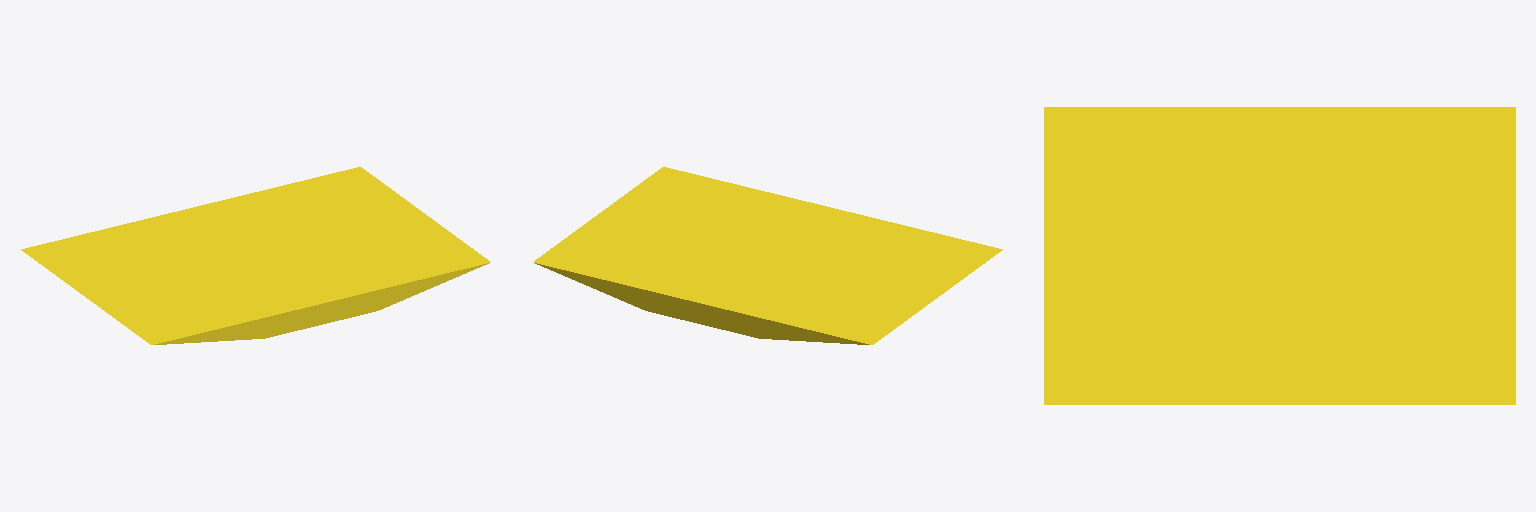
The robot description file, URDF, robot "wedge_10.SLDPRT":
<?xml version="1.0" encoding="utf-8"?>
<!-- This URDF was automatically created by SolidWorks to URDF Exporter! Originally created by [author] ([email redacted]) 
     Commit Version: 1.5.1-0-g916b5db  Build Version: 1.5.7152.31018
     For more information, please see http://wiki.ros.org/sw_urdf_exporter -->
<robot
  name="wedge_10.SLDPRT">
  <link
    name="wedge_10.SLDPRT">
    <inertial>
      <origin
        xyz="-3.9245E-17 -1.87208324991391E-17 0.014734"
        rpy="0 0 0" />
      <mass
        value="707.23" />
      <inertia
        ixx="237.43"
        ixy="3.1225E-14"
        ixz="-2.1437E-15"
        iyy="296.37"
        iyz="1.43192041587833E-14"
        izz="530.43" />
    </inertial>
    <visual>
      <origin
        xyz="0 0 0"
        rpy="1.5707963267949 0 0" />
      <geometry>
        <mesh
          filename="package://wedge_10.SLDPRT/meshes/wedge_10.SLDPRT.STL" />
      </geometry>
      <material
        name="">
        <color
          rgba="1 0.9 0.2 1" />
        <texture
          filename="package://wedge_10.SLDPRT/textures/" />
      </material>
    </visual>
    <collision>
      <origin
        xyz="0 0 0"
        rpy="1.5707963267949 0 0" />
      <geometry>
        <mesh
          filename="package://wedge_10.SLDPRT/meshes/wedge_10.SLDPRT.STL" />
      </geometry>
    </collision>
  </link>
</robot>

--- What the picture shows (computed from the rendered views, not written in the file) ---
3 views of the same robot in one strip: view 1: azimuth 30°, elevation 25°; view 2: azimuth 150°, elevation 25°; view 3: azimuth 270°, elevation 25° (orthographic).
Robot: wedge_10.SLDPRT — 1 links, 0 joints (none); root link wedge_10.SLDPRT; default pose: every joint at zero.
Links seen in each view (by area): view 1: wedge_10.SLDPRT; view 2: wedge_10.SLDPRT; view 3: wedge_10.SLDPRT.
Boxes of the visible links, x1,y1,x2,y2 form: wedge_10.SLDPRT: [21, 167, 490, 344]; wedge_10.SLDPRT: [533, 167, 1002, 344]; wedge_10.SLDPRT: [1044, 107, 1515, 404].
Size in the robot's own frame: 3 by 2 by 0.1768 metres.
Meshes: 1 distinct files referenced, 1 mesh visuals loaded (1 binary STL).